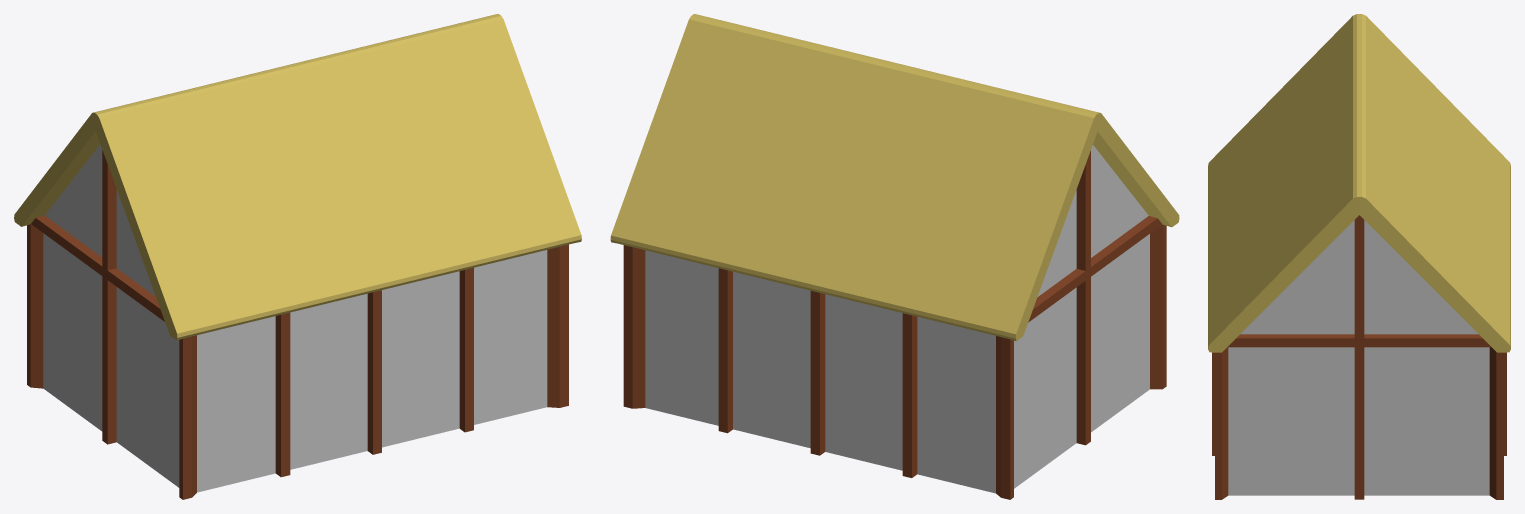
File: Rustic Cottage.fbx
3 views of the same model, side by side, from view 1: azimuth 30°, elevation 25°; view 2: azimuth 150°, elevation 25°; view 3: azimuth 270°, elevation 25° (orthographic). The views are drawn at different scales.
Parts seen in each view (by area): view 1: Rustic Cottage; view 2: Rustic Cottage; view 3: Rustic Cottage.
Part boxes in pixels (box(x1,y1,x2,y2)): Rustic Cottage: box(14, 14, 581, 499); Rustic Cottage: box(610, 14, 1179, 499); Rustic Cottage: box(1208, 14, 1510, 499).
Size of the model in its own units: 441 by 345 by 308.
